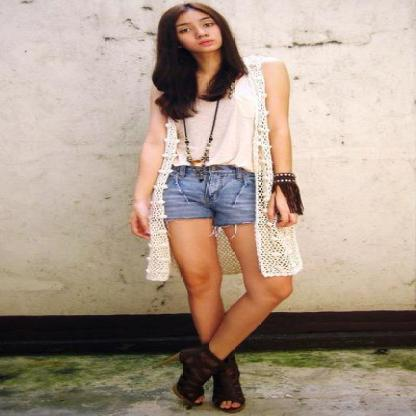jacket: (146, 64, 302, 280)
shoe: (174, 341, 243, 409)
shorts: (162, 157, 255, 230)
